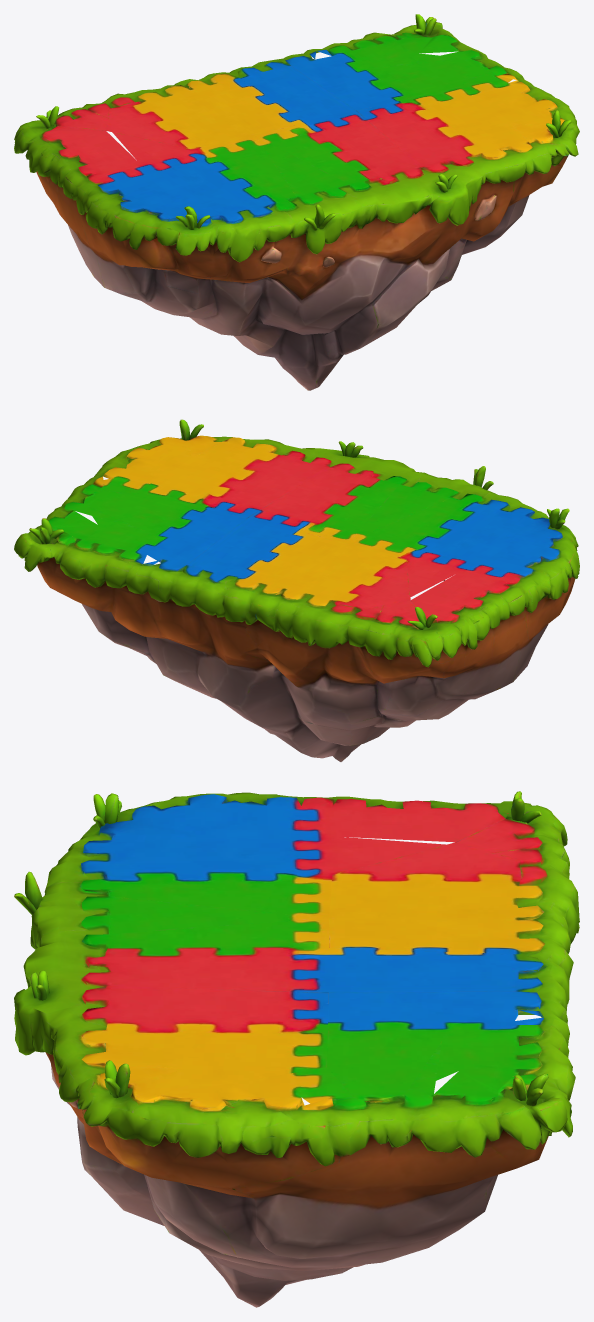
The model's file is playground_island.glb.
3 renders of one model, top to bottom at view 1: azimuth 30°, elevation 25°; view 2: azimuth 150°, elevation 25°; view 3: azimuth 270°, elevation 25°, orthographic. The views are drawn at different scales.
Size of what is drawn, in the model's own units: 1.86 by 1 by 1.31.
1 material, 1 textured.
